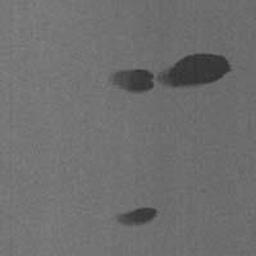Oil spot: (108, 51, 233, 95), (113, 205, 161, 228)
